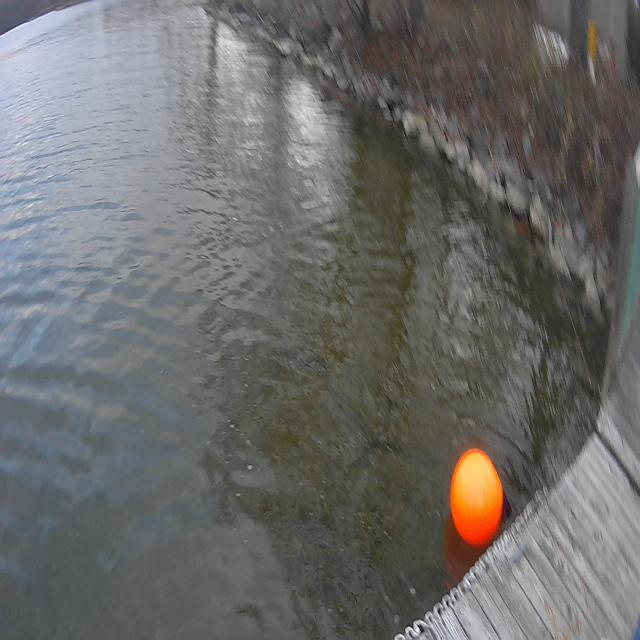Buoy: (442, 433, 516, 551)
